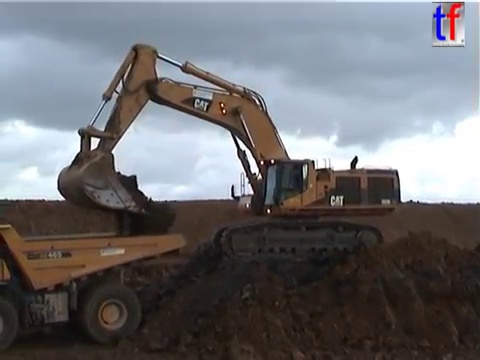excavator: (54, 40, 403, 266)
truck: (1, 222, 189, 354)
